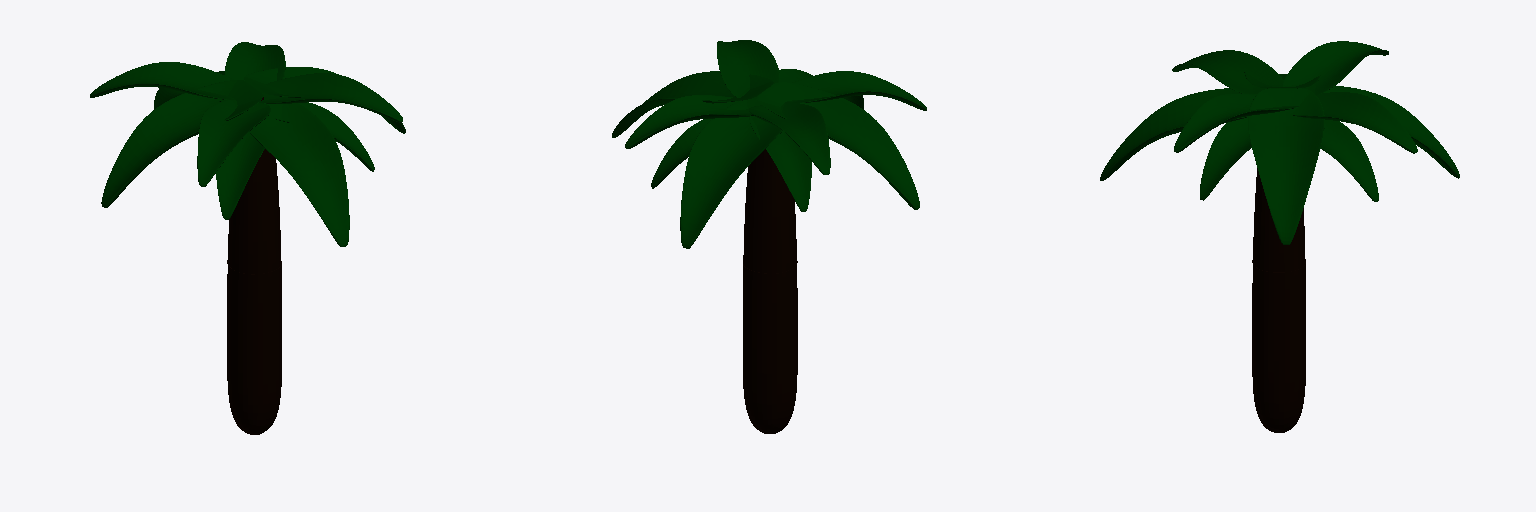
Rendered from Tree.obj.
The picture shows the model from 3 angles: view 1: azimuth 30°, elevation 25°; view 2: azimuth 150°, elevation 25°; view 3: azimuth 270°, elevation 25°; orthographic projection.
Parts seen in each view (by area): view 1: Cube, Куб.003, Куб.001, Куб.008, Куб.011, Куб.009, Куб.007, Куб.010, Куб.004, Куб; view 2: Cube, Куб.002, Куб.001, Куб.009, Куб, Куб.008, Куб.010, Куб.011, Куб.005, Куб.006; view 3: Cube, Куб, Куб.003, Куб.009, Куб.010, Куб.011, Куб.008, Куб.006, Куб.004, Куб.002.
Part boxes in pixels (x1,y1,x2,y2): Cube: (227, 97, 281, 434); Куб.003: (249, 103, 349, 246); Куб.001: (101, 80, 263, 207); Куб.008: (259, 73, 402, 122); Куб.011: (197, 100, 270, 186); Куб.009: (90, 62, 234, 99); Куб.007: (216, 132, 264, 219); Куб.010: (225, 42, 285, 80); Куб.004: (274, 102, 374, 171); Куб: (244, 67, 405, 133); Cube: (743, 149, 797, 433); Куб.002: (680, 100, 781, 248); Куб.001: (757, 82, 919, 209); Куб.009: (749, 102, 830, 174); Куб: (612, 71, 773, 137); Куб.008: (717, 40, 779, 99); Куб.010: (625, 95, 753, 148); Куб.011: (787, 71, 926, 110); Куб.005: (749, 117, 811, 211); Куб.006: (651, 119, 711, 188); Cube: (1252, 168, 1305, 432); Куб: (1248, 88, 1324, 244); Куб.003: (1100, 88, 1247, 180); Куб.009: (1283, 41, 1388, 95); Куб.010: (1293, 92, 1417, 153); Куб.011: (1172, 50, 1285, 93); Куб.008: (1174, 94, 1298, 152); Куб.006: (1321, 120, 1378, 201); Куб.004: (1200, 117, 1251, 200); Куб.002: (1324, 86, 1459, 178).
Bounding box in the file's own units: 11.89 × 13.25 × 12.22.